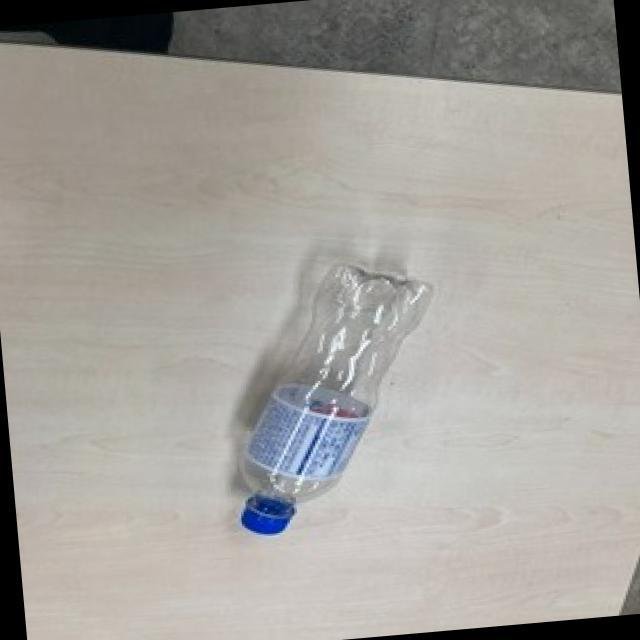good: (214, 252, 456, 550)
